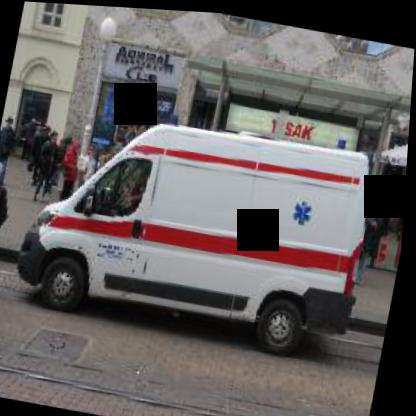emergency: (7, 87, 391, 360)
